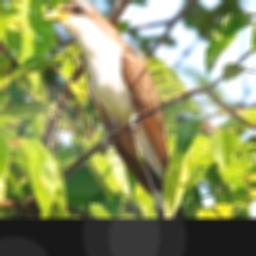Cuckoo: (44, 0, 178, 218)
